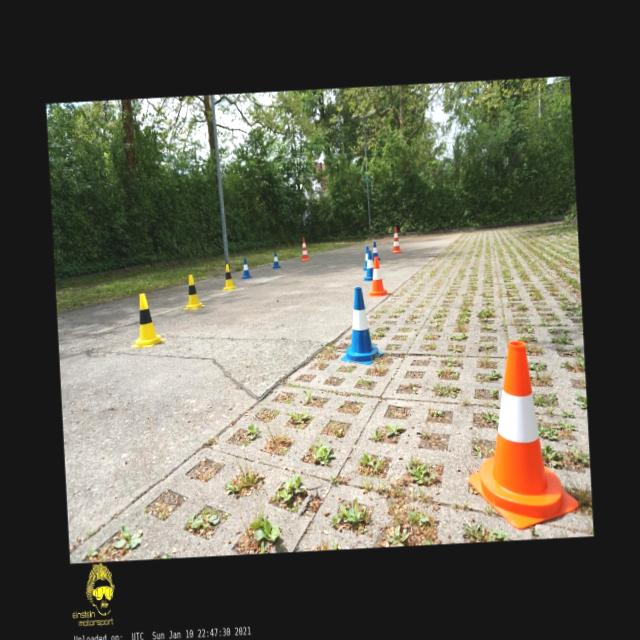blue_cone: (338, 286, 383, 366), (361, 250, 374, 280), (241, 258, 251, 278), (362, 247, 370, 270), (371, 242, 380, 260), (272, 251, 281, 268)
large_orange_cone: (390, 226, 402, 254), (300, 238, 309, 260)
orange_cone: (462, 338, 580, 531), (366, 256, 390, 296)
yellow_cone: (128, 292, 164, 347), (182, 274, 204, 309), (222, 264, 236, 290)
